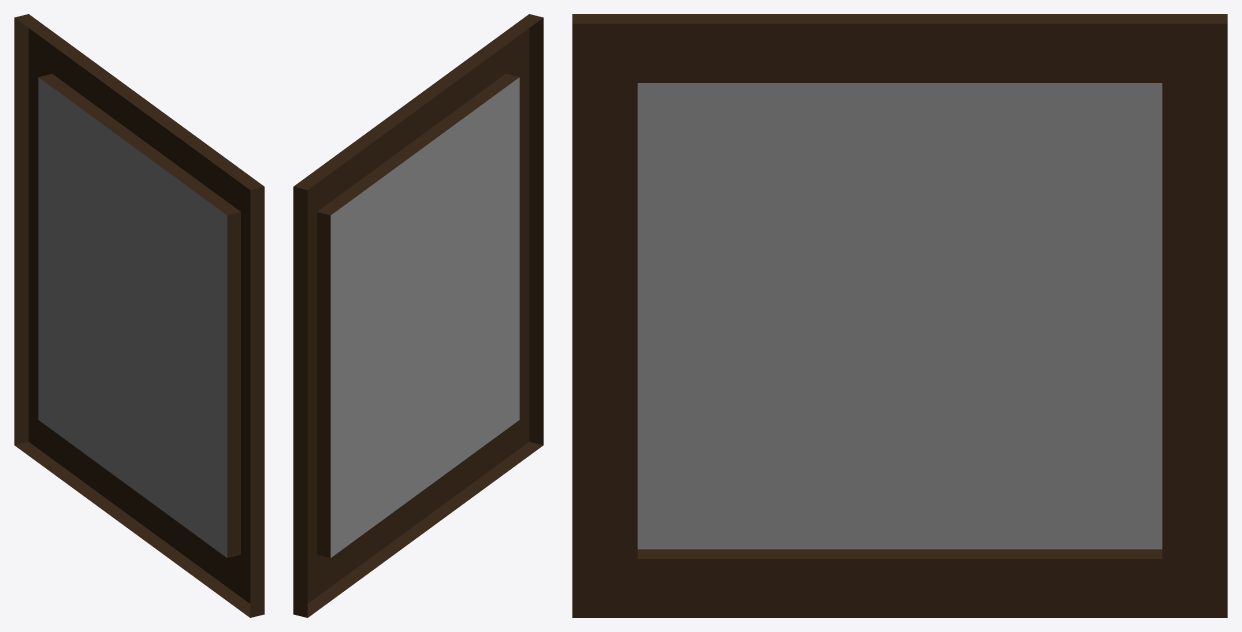
Rendered from PictureFrame_3.FBX.
3 renders of one model, left to right at view 1: azimuth 30°, elevation 25°; view 2: azimuth 150°, elevation 25°; view 3: azimuth 270°, elevation 25°, orthographic. The views are drawn at different scales.
Parts seen in each view (by area): view 1: Object002; view 2: Object002; view 3: Object002.
Boxes of the visible parts, bbox=[...] form: Object002: bbox=[14, 14, 264, 617]; Object002: bbox=[293, 14, 543, 617]; Object002: bbox=[572, 14, 1227, 617].
Size of the model in its own units: 0.5061 by 14.4 by 14.39.
